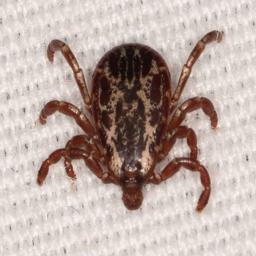Dermacentor variabilis: (35, 27, 223, 210)
